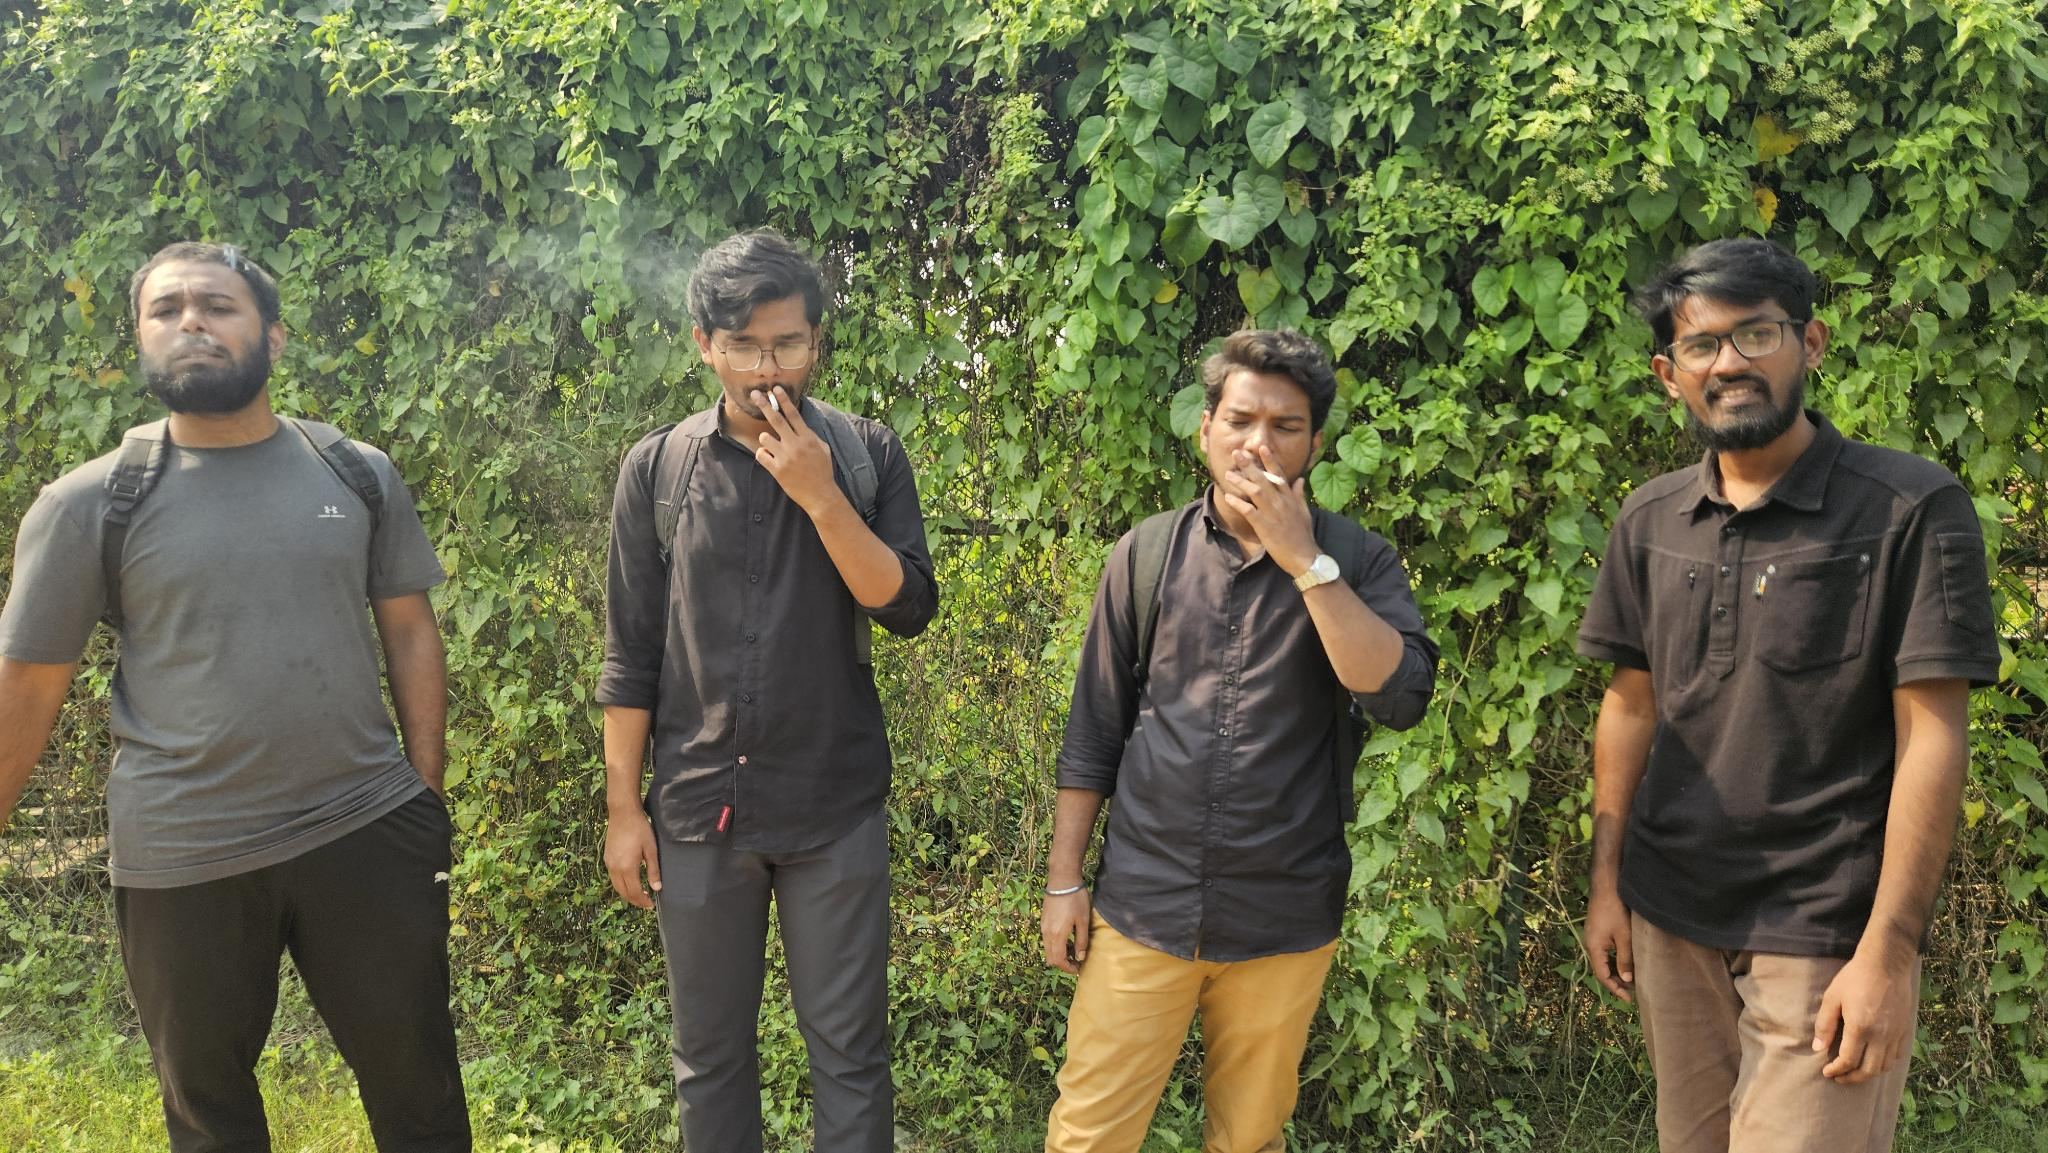cigarette: (1260, 470, 1286, 487), (767, 389, 781, 413)
nonSmoker: (1, 243, 473, 1153), (1577, 225, 2009, 1153)
smoker: (1039, 330, 1440, 1153), (595, 233, 940, 1153)
